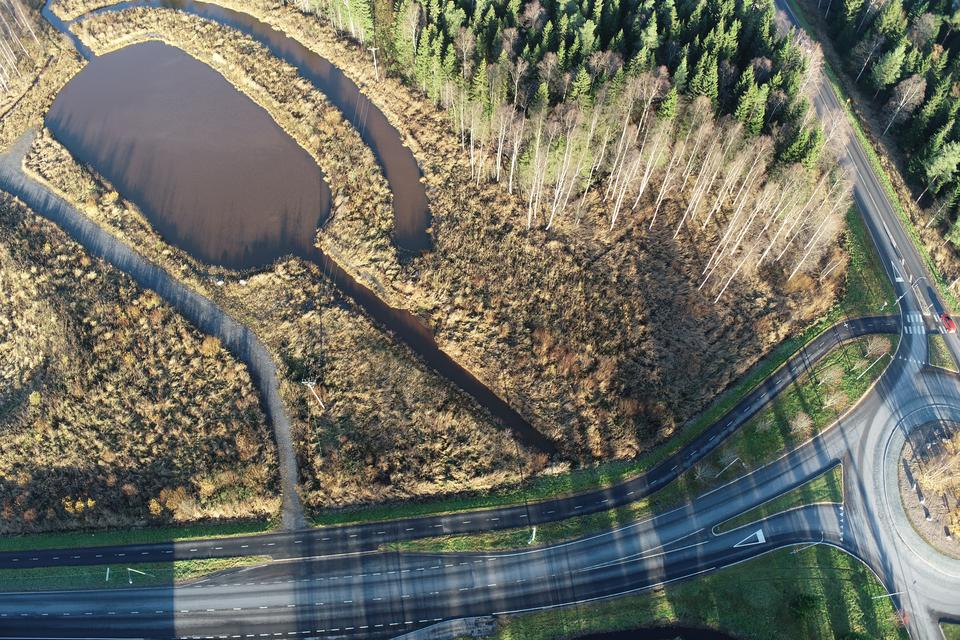intersection: (260, 475, 338, 640), (882, 299, 960, 340)
roundabout: (771, 346, 960, 640)
